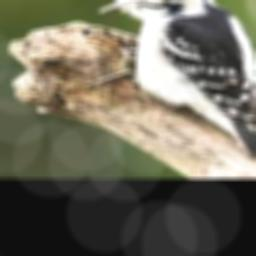Woodpecker: (84, 0, 256, 171)
